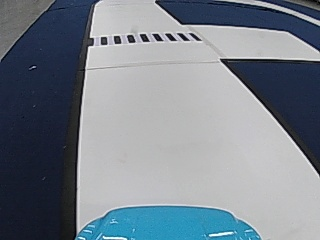CrossWalk: (89, 30, 197, 46)
